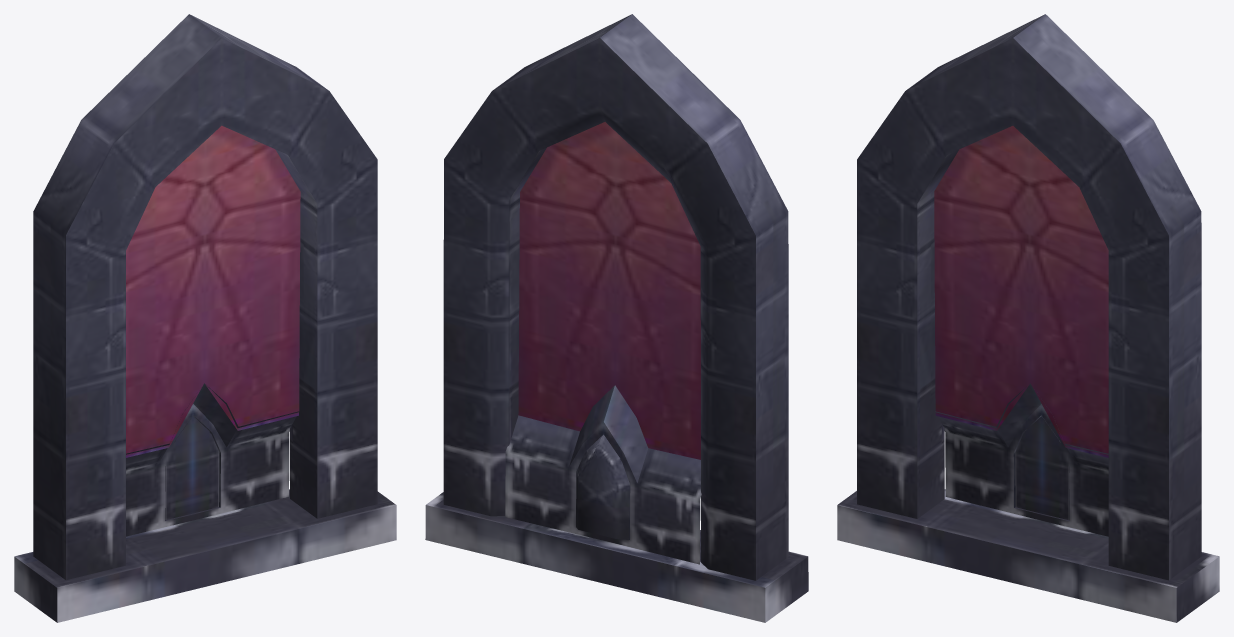
Rendered from pvp_chuan02.FBX.
3 views of the same model, side by side, from view 1: azimuth 30°, elevation 25°; view 2: azimuth 150°, elevation 25°; view 3: azimuth 330°, elevation 25° (orthographic).
Parts seen in each view (by area): view 1: pvp_chuan02; view 2: pvp_chuan02; view 3: pvp_chuan02.
Boxes of the visible parts, x1,y1,x2,y2 form: pvp_chuan02: [14, 14, 396, 622]; pvp_chuan02: [425, 14, 808, 622]; pvp_chuan02: [837, 14, 1219, 622].
Size of the model in its own units: 172 by 37.93 by 262.
